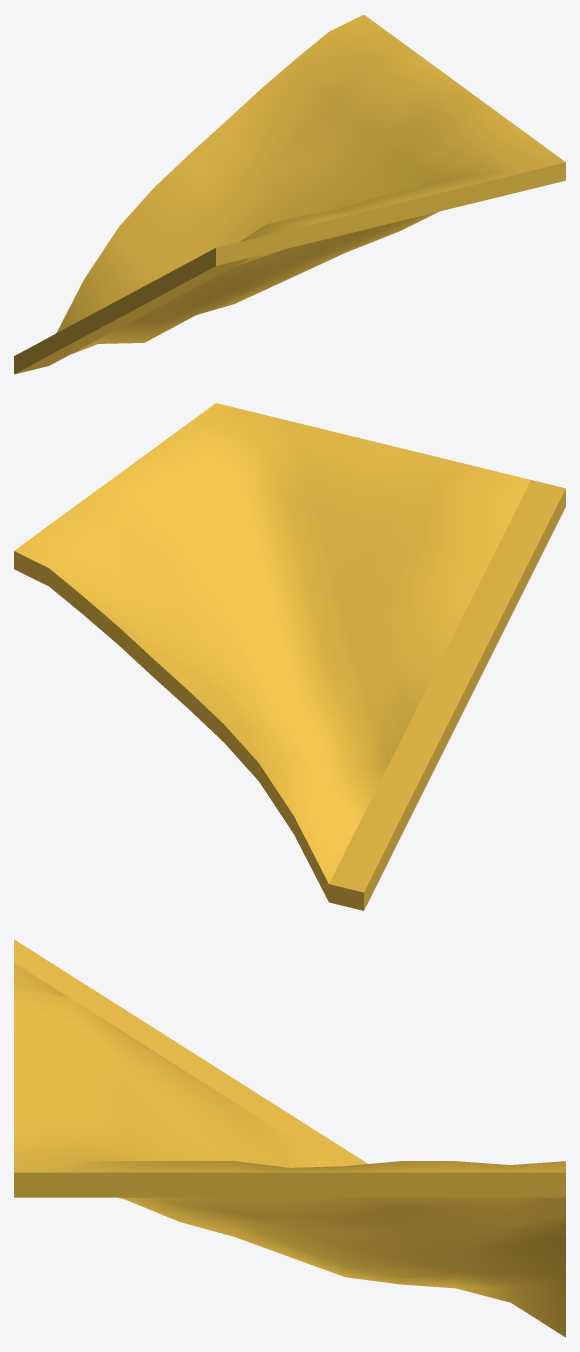
The model's file is Steil - Mitte -  Ecke Invertiert b - x.fbx.
3 views of the same model, one above another, from view 1: azimuth 30°, elevation 25°; view 2: azimuth 150°, elevation 25°; view 3: azimuth 270°, elevation 25° (orthographic). The views are drawn at different scales.
Visible parts, largest first — view 1: Steil - Mitte - Ecke Invertiert b - x; view 2: Steil - Mitte - Ecke Invertiert b - x; view 3: Steil - Mitte - Ecke Invertiert b - x.
Part boxes in pixels (<box>): Steil - Mitte - Ecke Invertiert b - x: <box>14,14,565,374</box>; Steil - Mitte - Ecke Invertiert b - x: <box>14,403,565,910</box>; Steil - Mitte - Ecke Invertiert b - x: <box>14,939,565,1337</box>.
Bounding box in the file's own units: 394 × 295 × 394.
